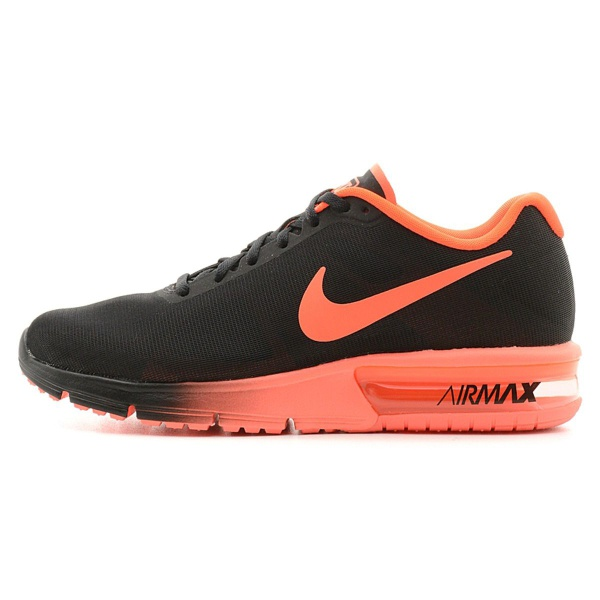nike: (295, 248, 518, 348)
